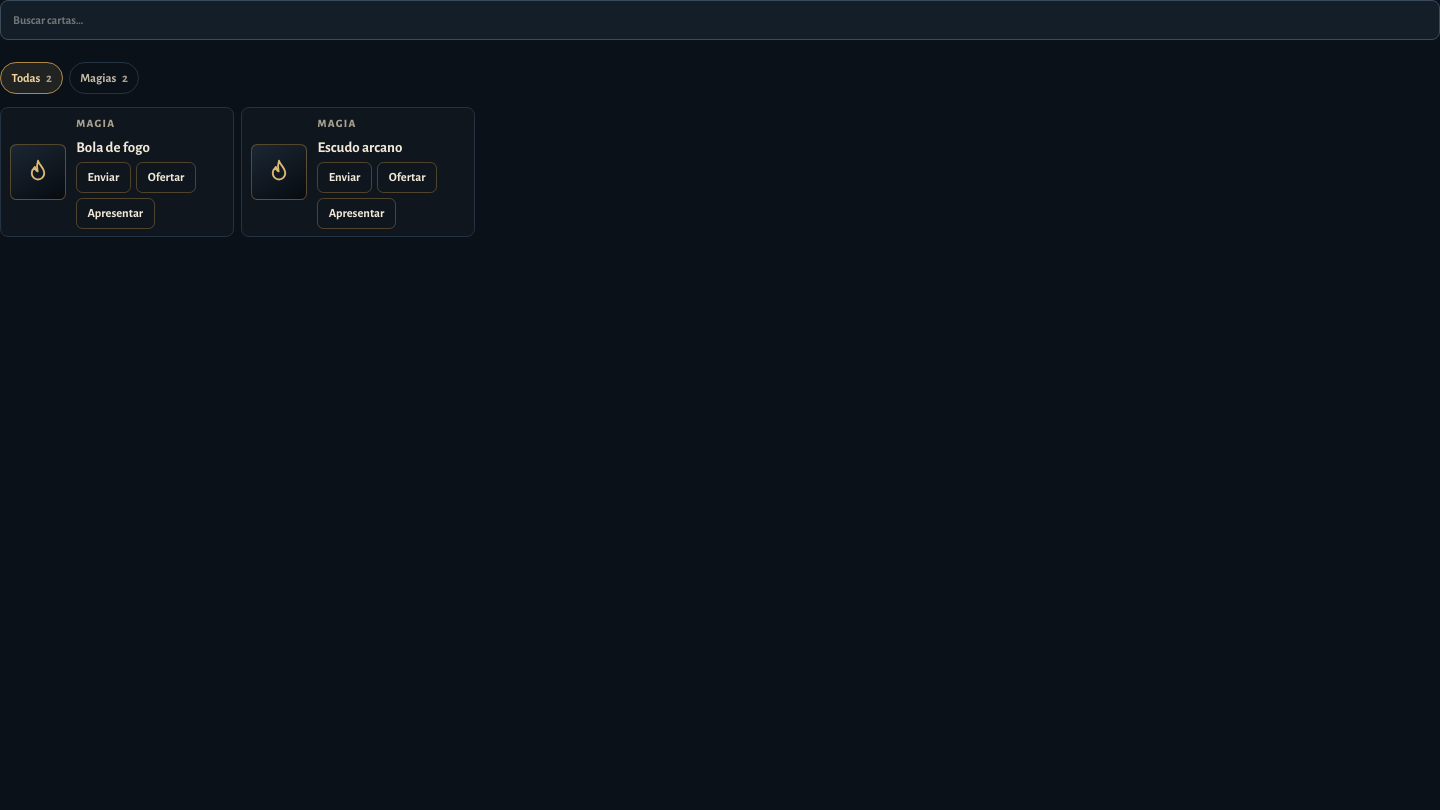
Scenario: aba Cartas do painel da Sala › enviar, ofertar e apresentar abrem os diálogos da Biblioteca com a carta escolhida
Click the button with aria-label "Enviar “Bola de fogo”": (103, 177) [76,162,131,192]
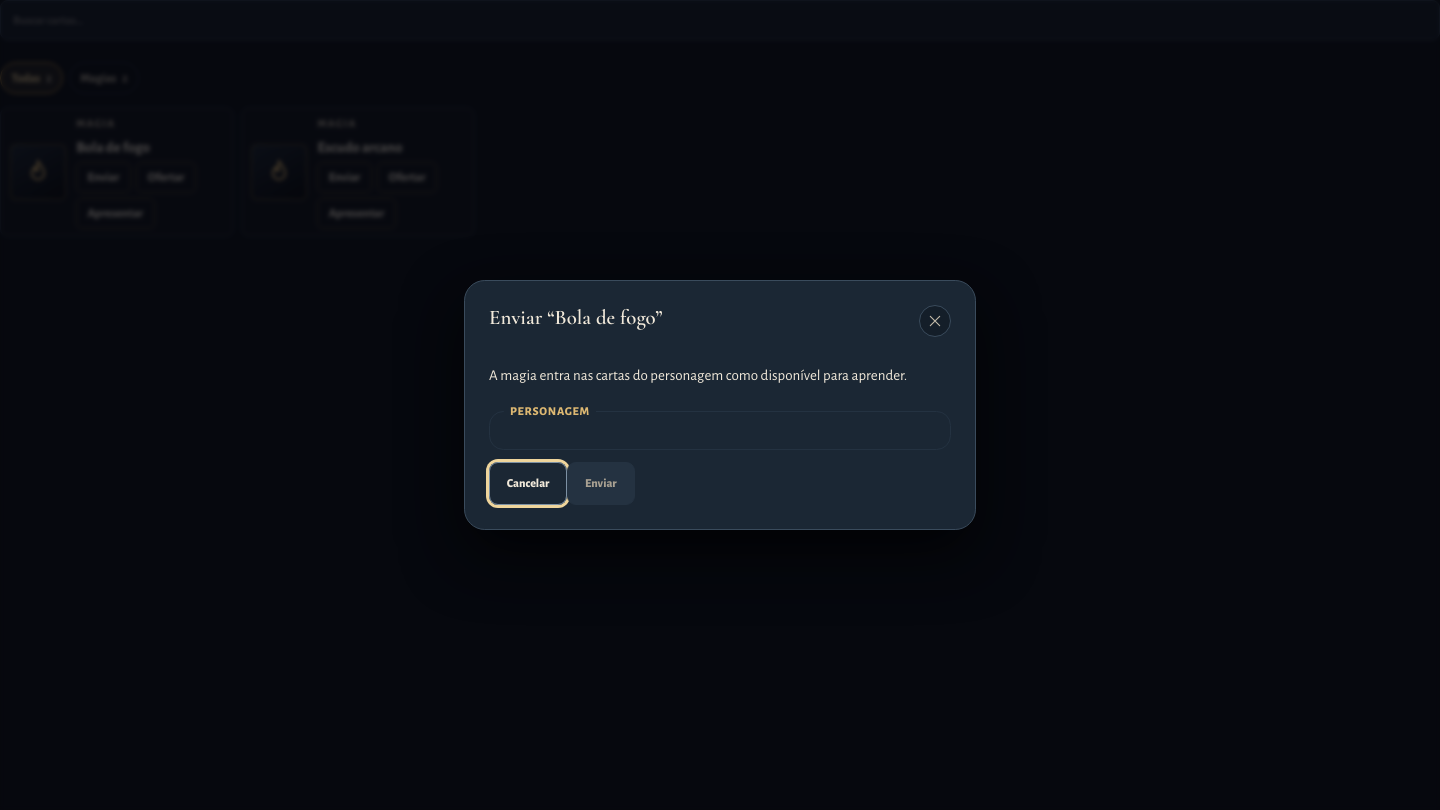
Result: the dialog "Enviar “Bola de fogo”" is shown at [464,280,976,530]
Click the button "Cancelar": (528, 484) [489,462,567,505]
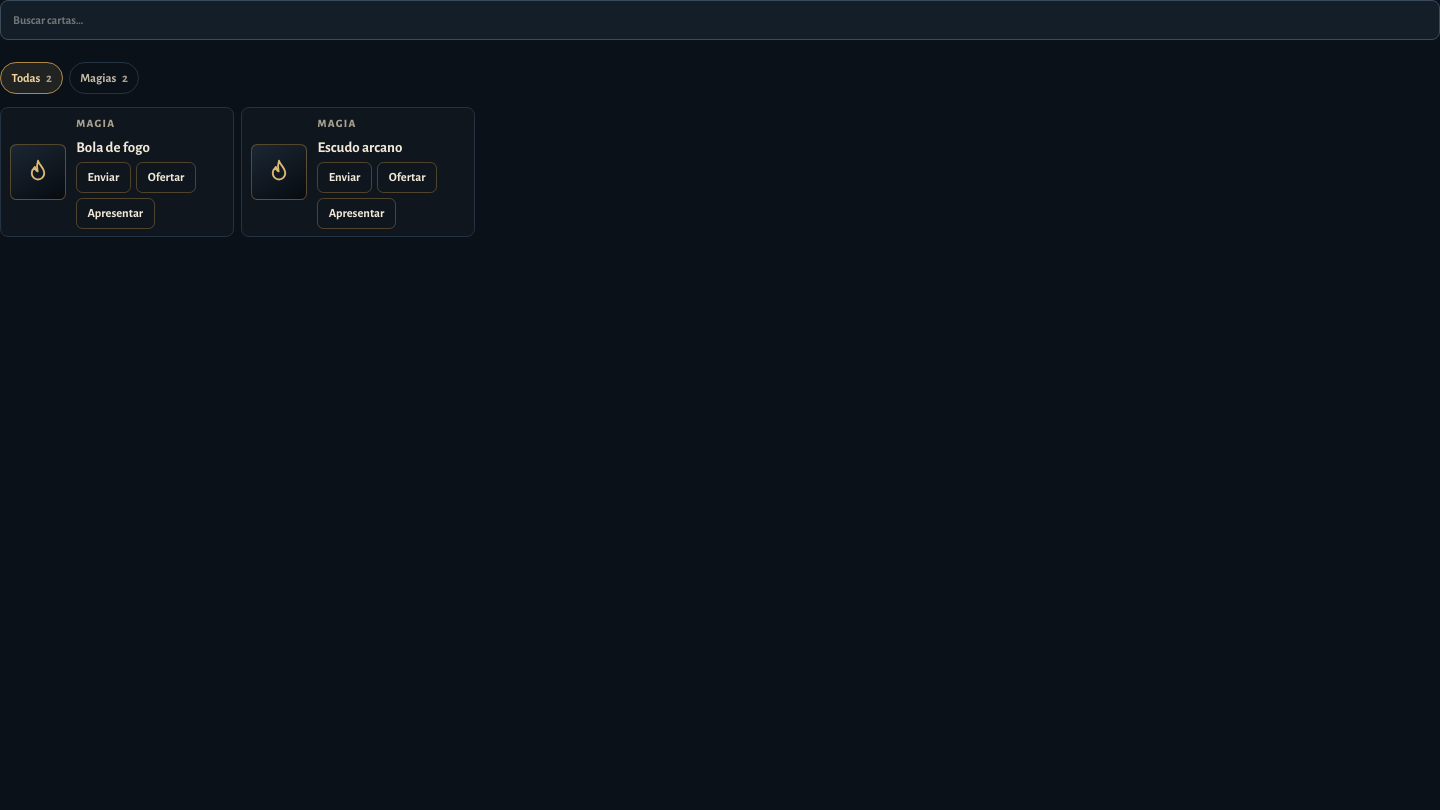
Click the button with aria-label "Ofertar “Escudo arcano”": (407, 177) [378,162,437,192]
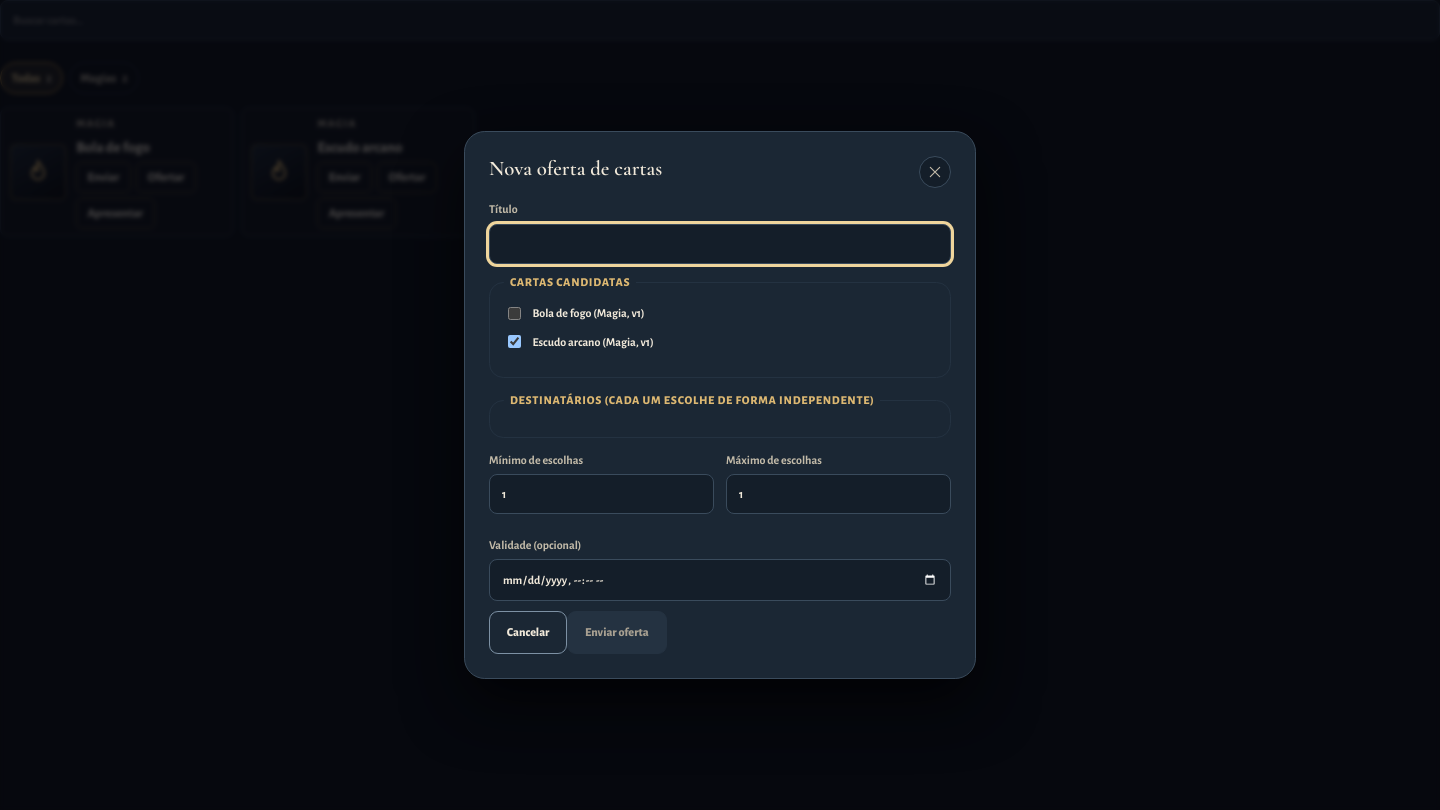
Result: the checkbox labelled "Escudo arcano (Magia, v1)" is checked at [508,335,521,348]
Result: the checkbox labelled "Bola de fogo (Magia, v1)" is not checked at [508,307,521,320]
Click the button "Cancelar": (528, 632) [489,611,567,654]
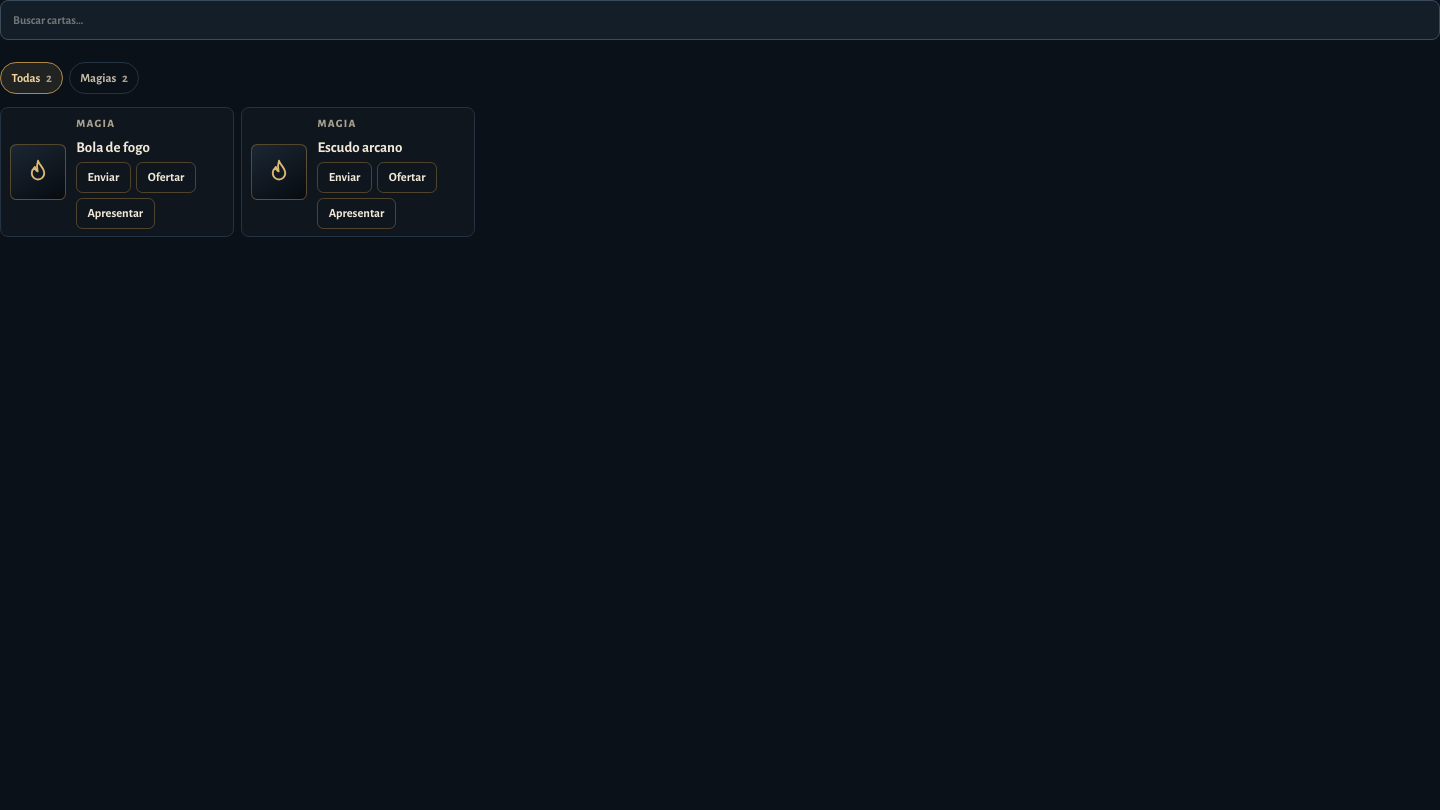
Click the button with aria-label "Apresentar “Bola de fogo”": (115, 213) [76,198,155,228]
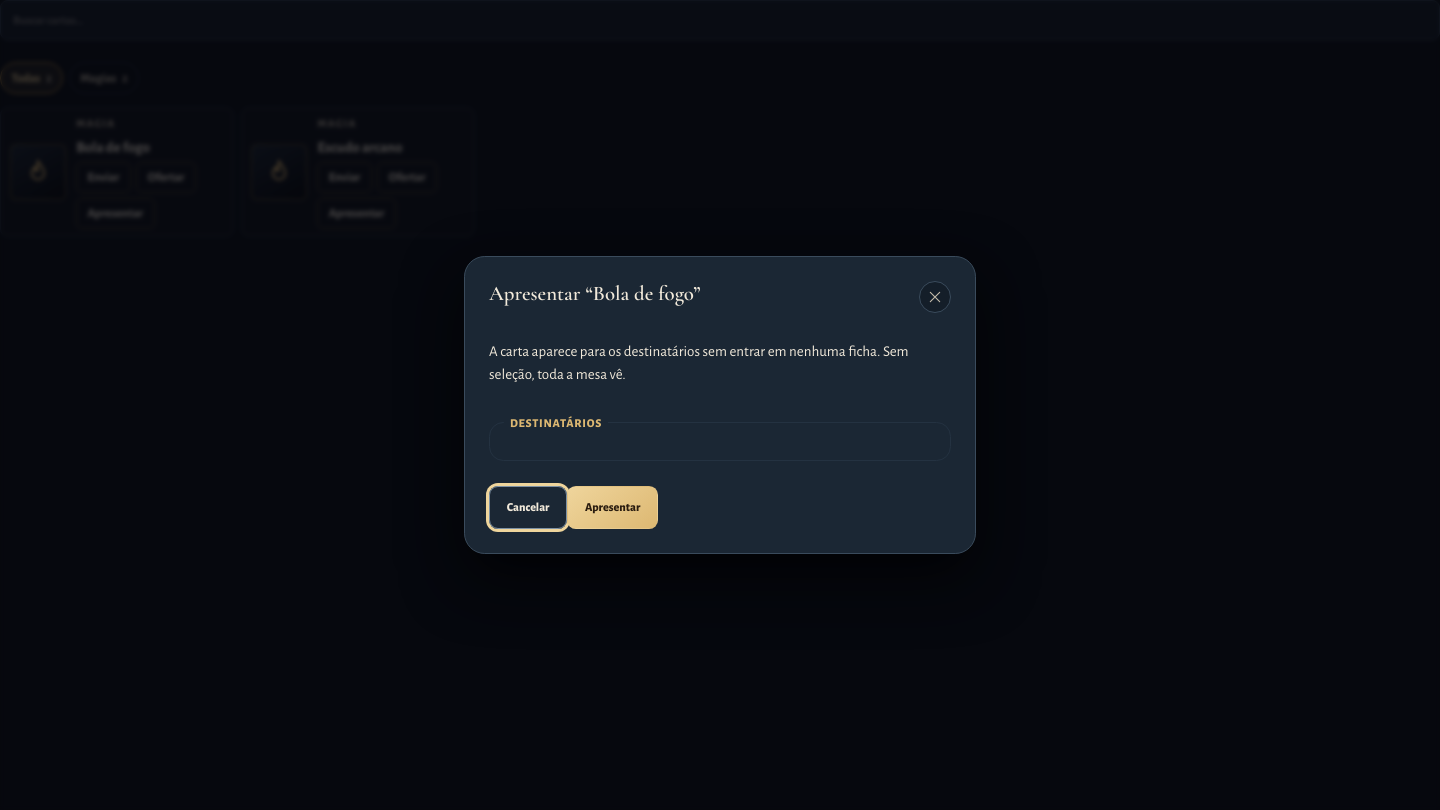
Result: the dialog "Apresentar “Bola de fogo”" is shown at [464,256,976,554]
